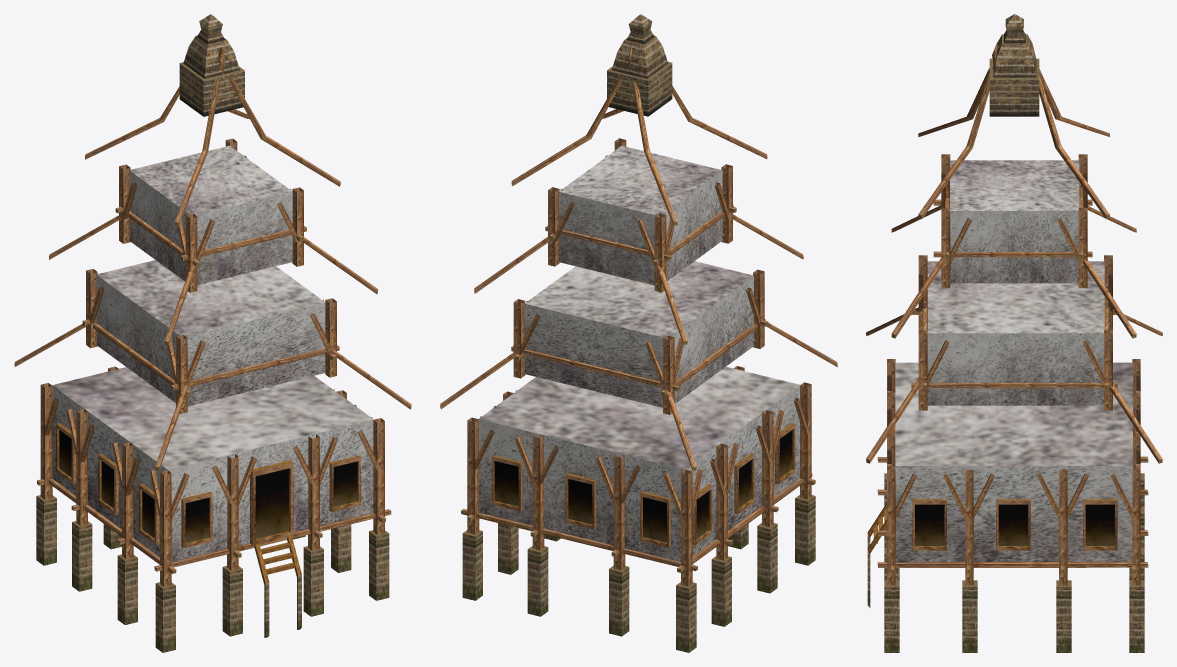
File: pagoda.dae
The picture shows the model from 3 angles, left to right: view 1: azimuth 30°, elevation 25°; view 2: azimuth 150°, elevation 25°; view 3: azimuth 270°, elevation 25°; orthographic projection. The views are drawn at different scales.
Visible parts, largest first — view 1: pagoda; view 2: pagoda; view 3: pagoda.
Part boxes in pixels (x1,y1,x2,y2): pagoda: [14, 14, 411, 652]; pagoda: [440, 14, 837, 652]; pagoda: [866, 14, 1162, 652].
Bounding box in the file's own units: 15.23 × 14.82 × 32.2.
